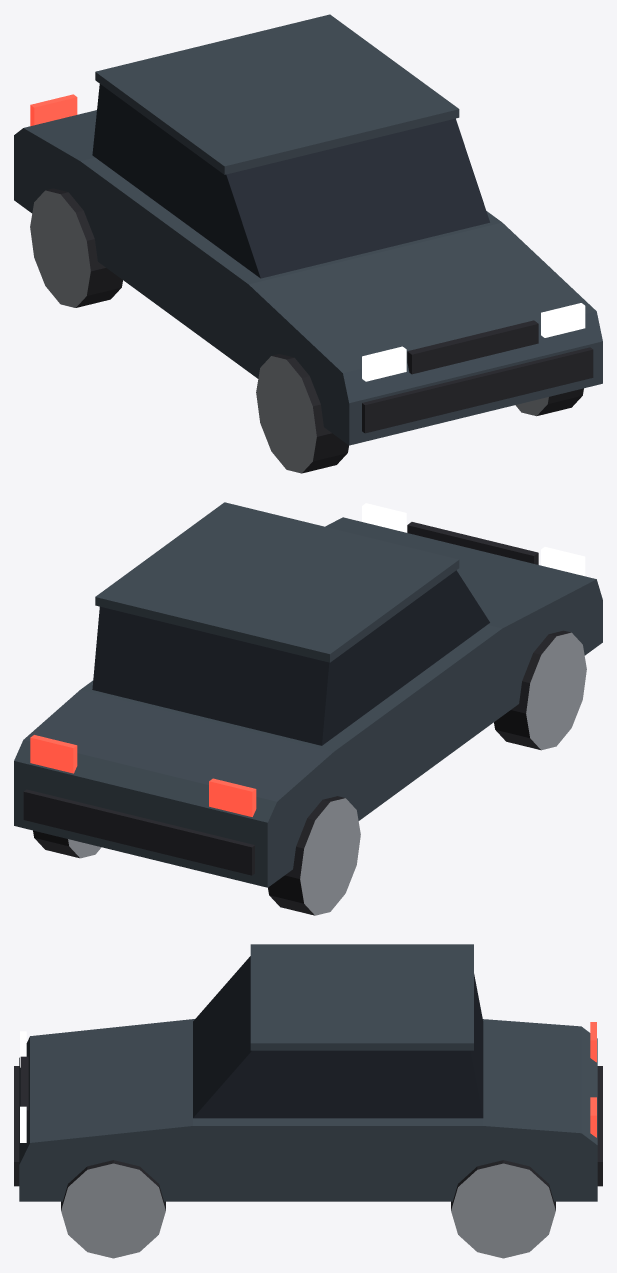
The model's file is suv.glb.
The picture shows the model from 3 angles, top to bottom: view 1: azimuth 30°, elevation 25°; view 2: azimuth 150°, elevation 25°; view 3: azimuth 270°, elevation 25°; orthographic projection. The views are drawn at different scales.
Parts seen in each view (by area): view 1: suv, wheel_RR, wheel_FR, wheel_FL; view 2: suv, wheel_RR, wheel_FR, wheel_RL; view 3: suv, wheel_FL, wheel_RL.
Part boxes in pixels (box(x1,y1,x2,y2)): suv: box(14, 14, 602, 445); wheel_RR: box(30, 188, 122, 307); wheel_FR: box(256, 354, 348, 473); wheel_FL: box(515, 388, 583, 416); suv: box(14, 502, 602, 887); wheel_RR: box(268, 796, 360, 915); wheel_FR: box(494, 630, 586, 750); wheel_RL: box(33, 830, 101, 858); suv: box(14, 944, 602, 1201); wheel_FL: box(61, 1160, 165, 1258); wheel_RL: box(451, 1160, 555, 1258).
Bounding box in the file's own units: 2 × 1.71 × 4.38.
